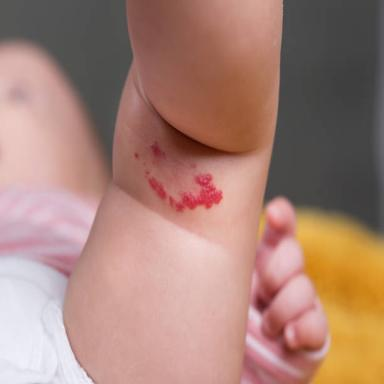Hemangiome: (169, 173, 223, 211), (149, 177, 167, 199)
